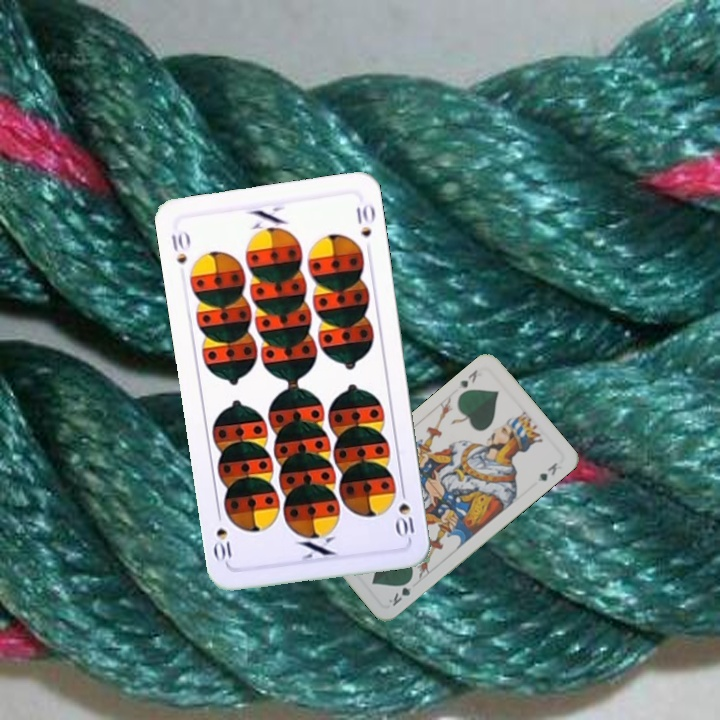GK: (384, 575, 415, 609), (454, 366, 480, 391)
S10: (393, 482, 417, 540), (167, 229, 189, 266)
